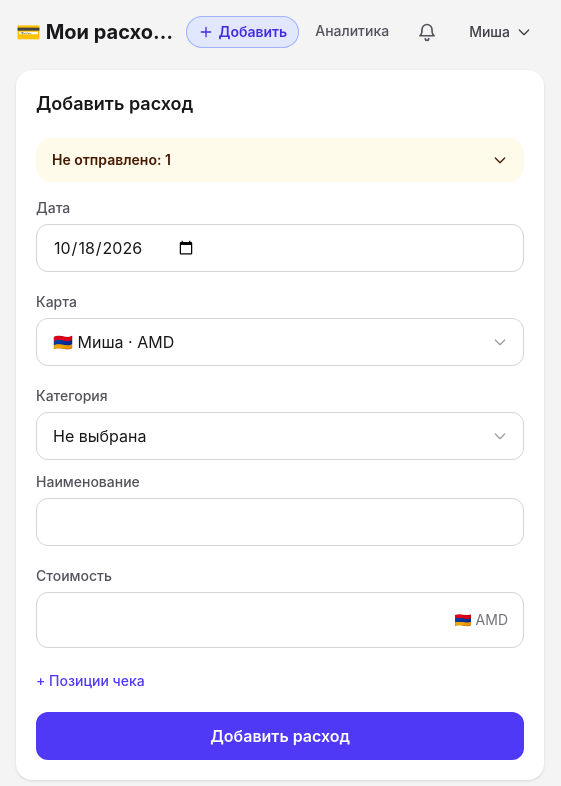
отправка очереди в приложении › сбой фото: расход не теряется, запись помечена, на странице видно статус
The width and height of the screenshot is (561, 786).
Expected: the button "Добавить расход" is shown, [36,712,524,760]
Click the button "Не отправлено: 1" at (108, 160), box [36,138,524,182]
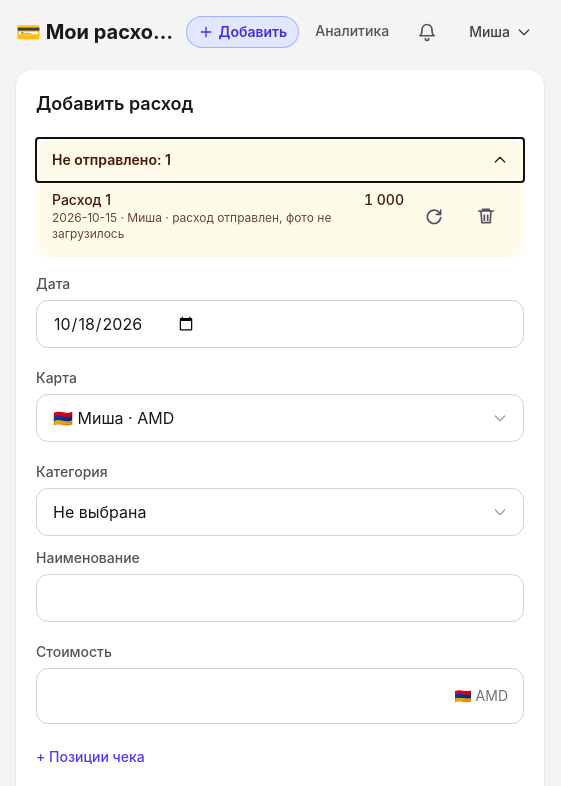
Now the text "2026-10-15 · Миша · расход отправлен, фото не загрузилось" is shown, box [52,210,331,241]
Now the button named "Повторить" is shown, box [412,194,456,238]
